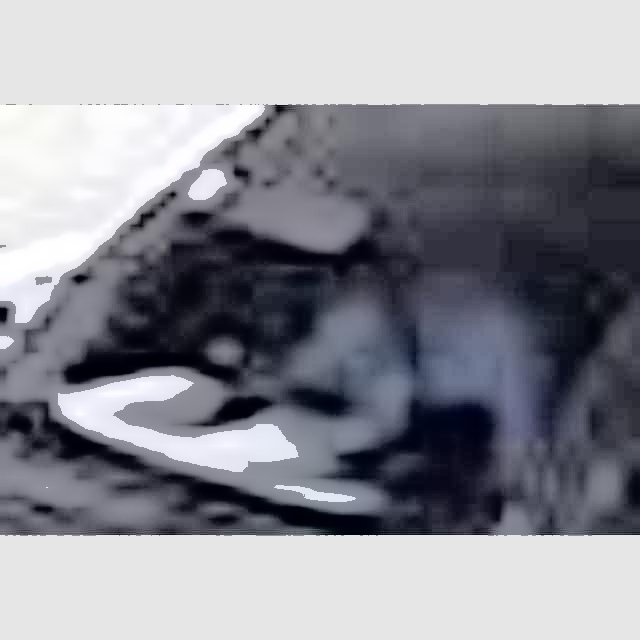pakai: (262, 231, 525, 483)
